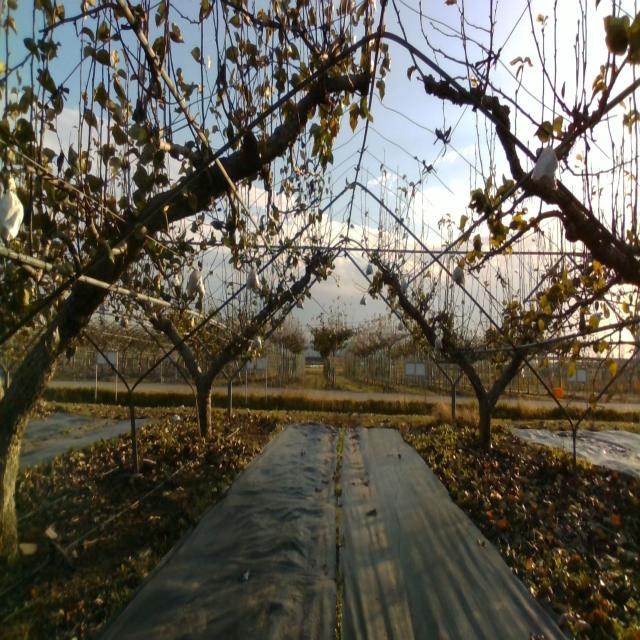pearbags: (530, 134, 559, 192), (4, 173, 26, 244), (186, 267, 205, 300), (247, 268, 260, 291), (451, 266, 466, 284)
